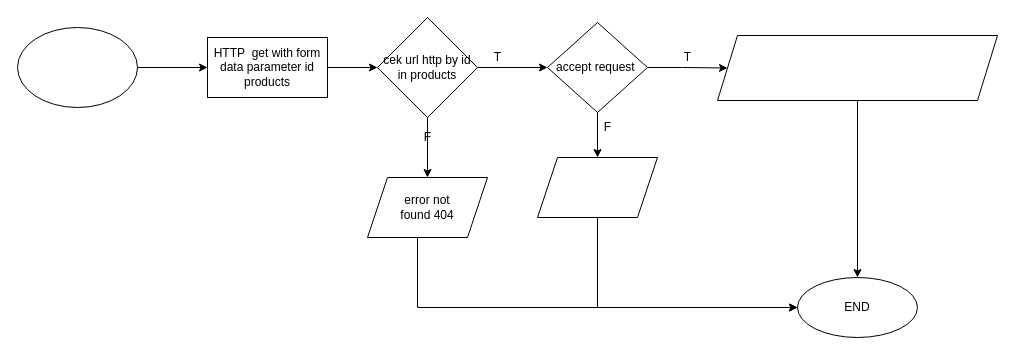
Image size: 1015x355. Some labels were removed from this diagram. The centre of each missing label's shape, as x and y in pixels:
error 500: the point at 597,187
get data with by category: the point at 857,67
START: the point at 77,67
